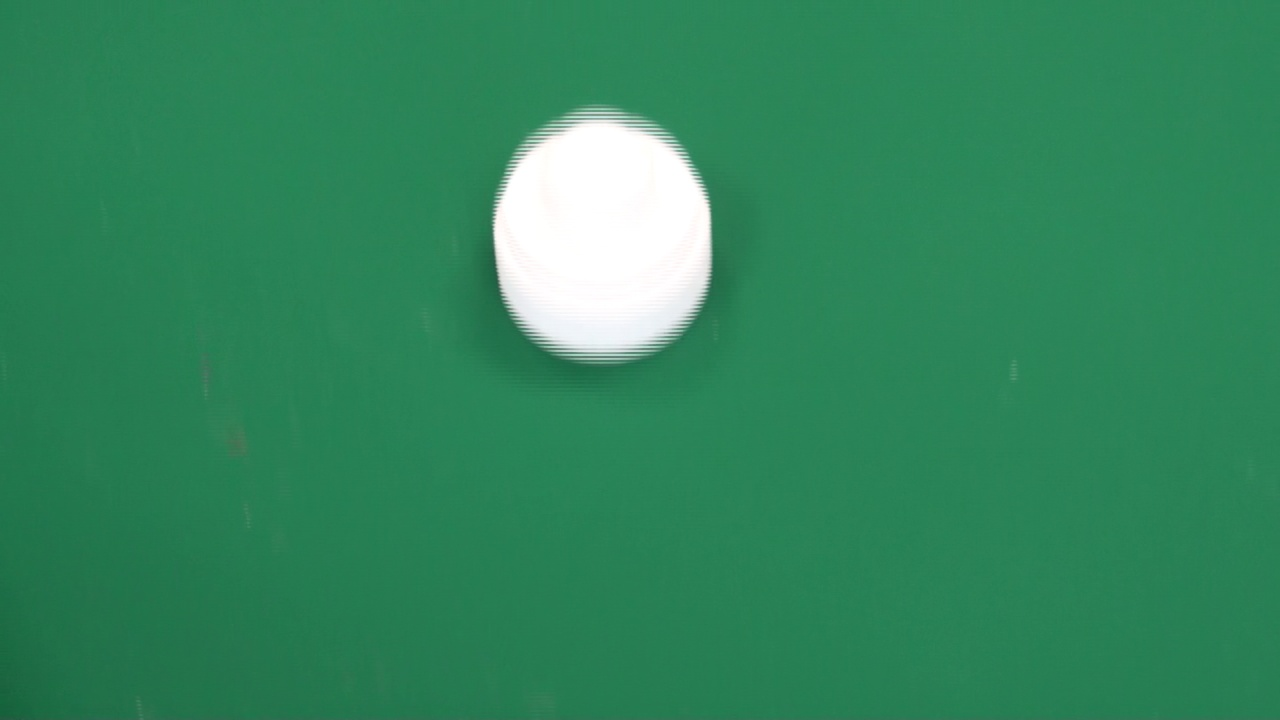breather_plug: (488, 109, 714, 367)
